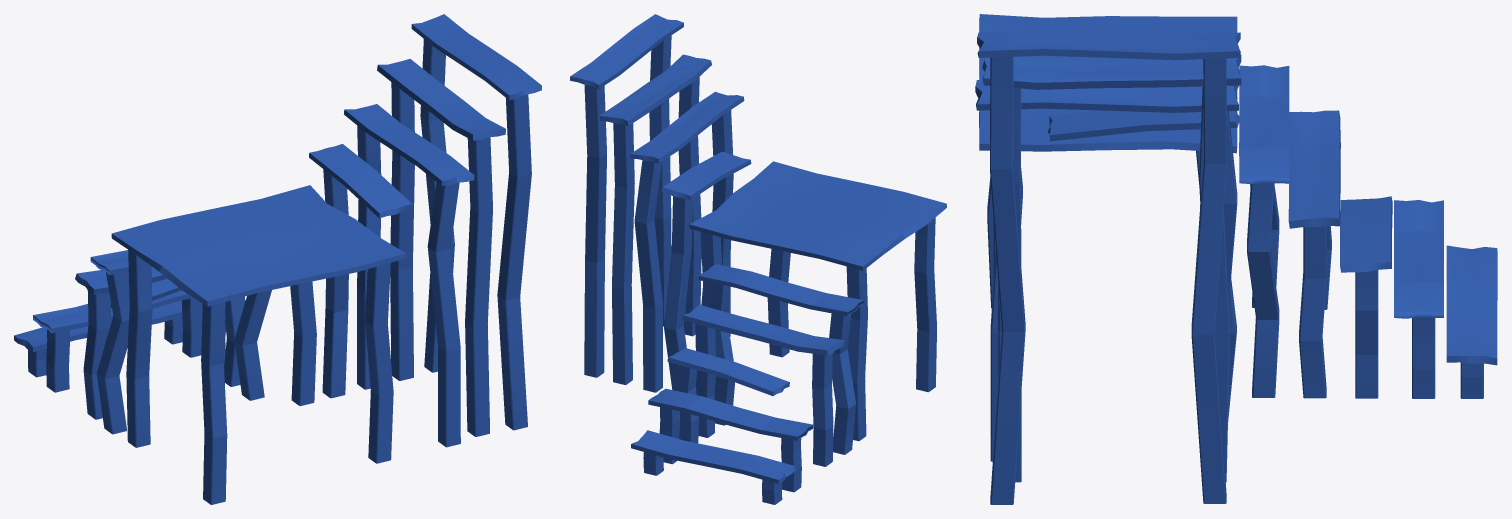
File: OBJET_Stairs.fbx
The picture shows the model from 3 angles, left to right: view 1: azimuth 30°, elevation 25°; view 2: azimuth 150°, elevation 25°; view 3: azimuth 270°, elevation 25°; orthographic projection. The views are drawn at different scales.
Visible parts, largest first — view 1: Escalier; view 2: Escalier; view 3: Escalier.
Boxes of the visible parts, box(x1,y1,x2,y2) form: Escalier: box(14, 14, 541, 504); Escalier: box(570, 14, 946, 504); Escalier: box(975, 14, 1497, 504).
Bounding box in the file's own units: 1183 × 1161 × 1183.
